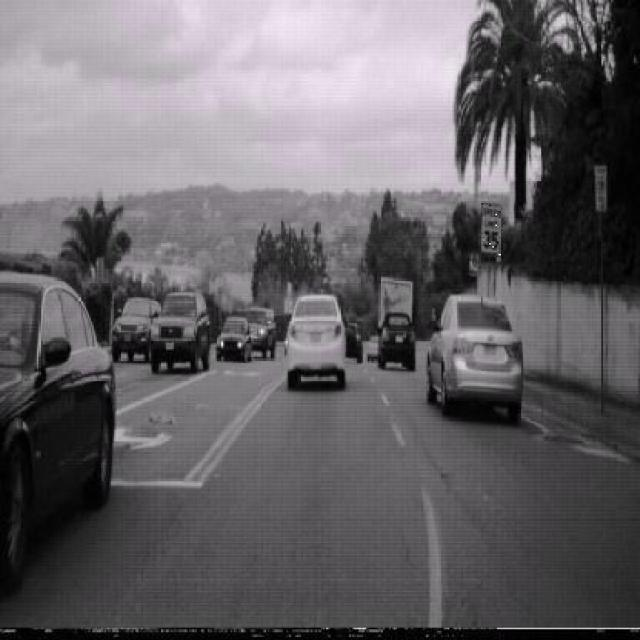speedLimit35: (480, 203, 502, 259)
